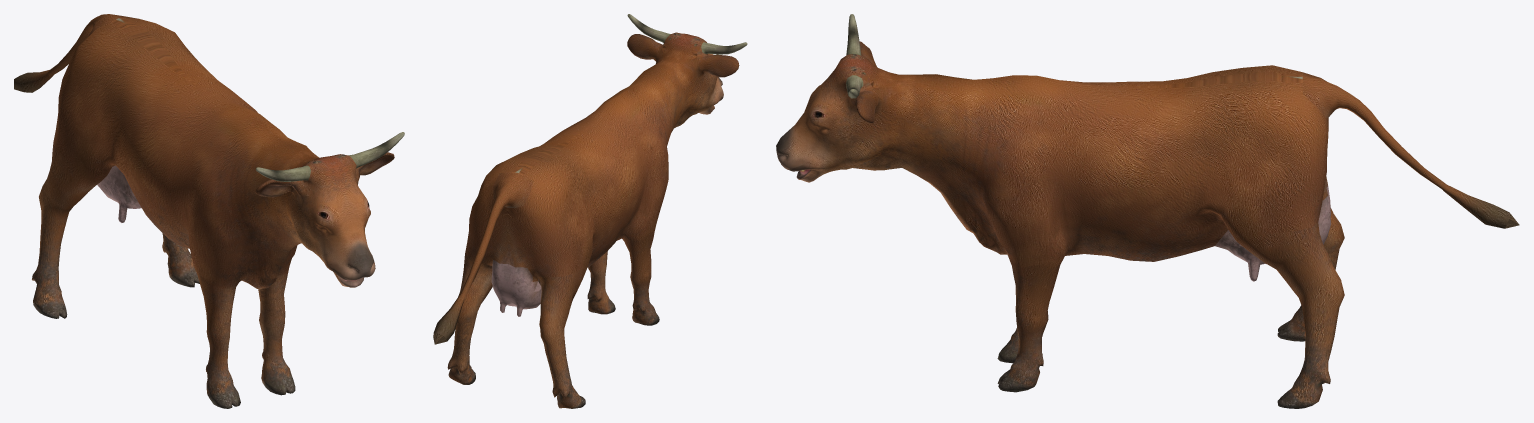
Rendered from vaca.obj.
3 renders of one model, left to right at view 1: azimuth 30°, elevation 25°; view 2: azimuth 150°, elevation 25°; view 3: azimuth 270°, elevation 25°, orthographic. The views are drawn at different scales.
Parts seen in each view (by area): view 1: SK_Cow_LOD0; view 2: SK_Cow_LOD0; view 3: SK_Cow_LOD0.
Part boxes in pixels (x1,y1,x2,y2): SK_Cow_LOD0: [14, 14, 404, 408]; SK_Cow_LOD0: [433, 14, 747, 408]; SK_Cow_LOD0: [776, 14, 1519, 408].
Size of the model in its own units: 0.7495 by 1.35 by 2.83.
Materials: 1 (1 with a texture image).
